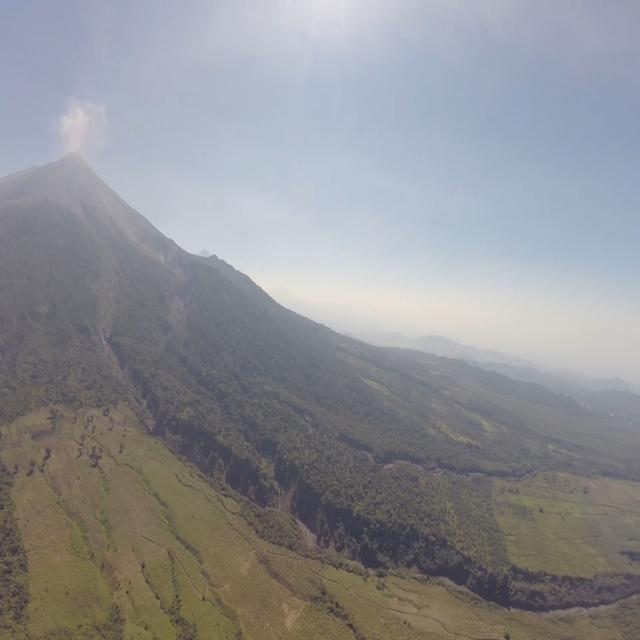Plume: (55, 98, 106, 154)
Summit: (56, 146, 90, 176)
